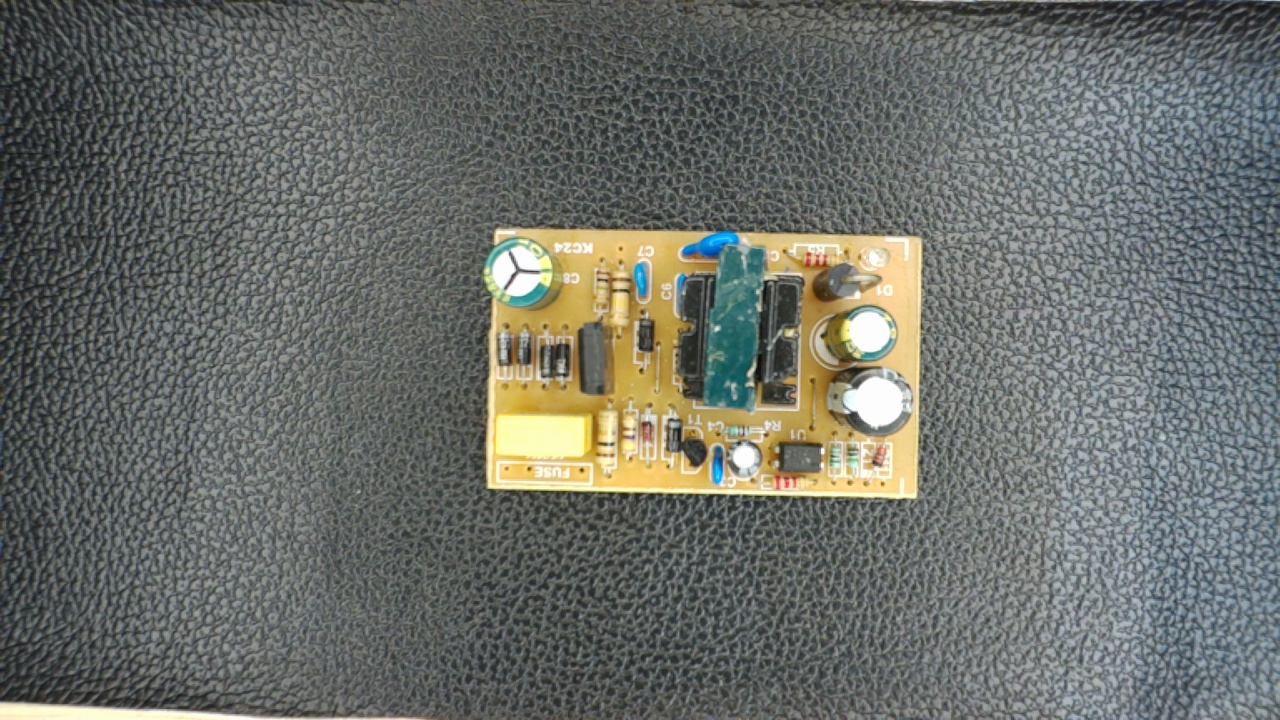hv_capacitor: (485, 236, 564, 311)
mov: (677, 231, 756, 260)
optocoupler: (768, 440, 827, 479)
